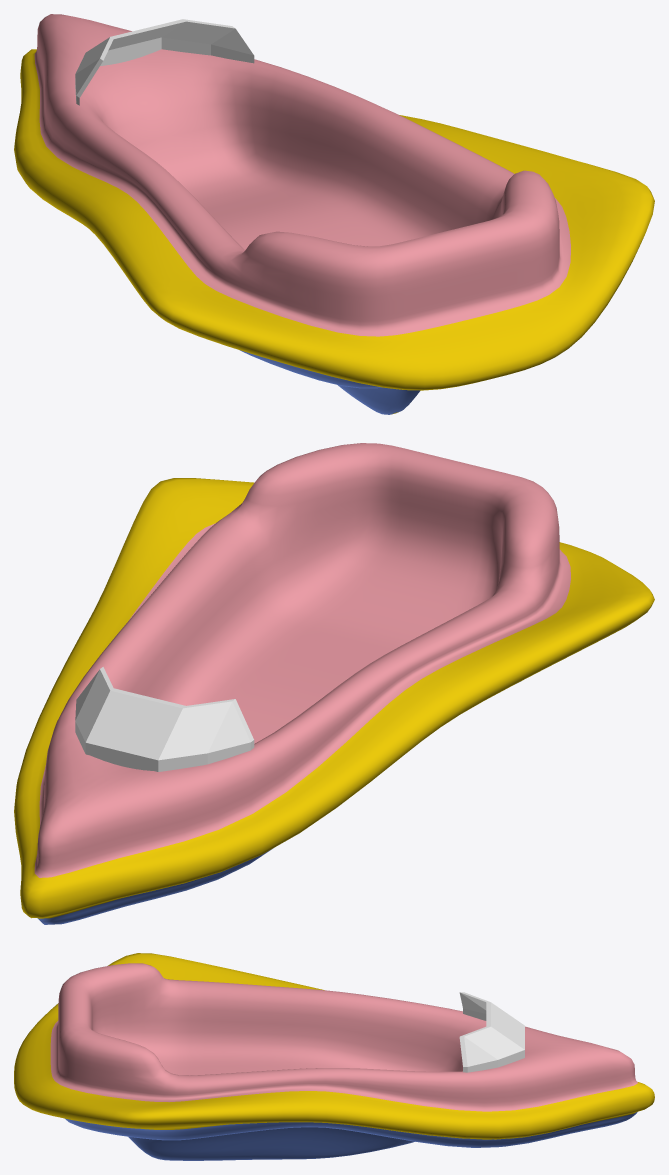
The model's file is podracer-pod.fbx.
The picture shows the model from 3 angles, top to bottom: view 1: azimuth 30°, elevation 25°; view 2: azimuth 150°, elevation 25°; view 3: azimuth 270°, elevation 25°; orthographic projection. The views are drawn at different scales.
Visible parts, largest first — view 1: Podracer.Main, Podracer.Window; view 2: Podracer.Main, Podracer.Window; view 3: Podracer.Main, Podracer.Window.
Boxes of the visible parts, x1,y1,x2,y2 form: Podracer.Main: (14,14,654,414); Podracer.Window: (75,19,254,105); Podracer.Main: (14,443,654,924); Podracer.Window: (75,667,254,771); Podracer.Main: (14,953,654,1160); Podracer.Window: (459,992,524,1072).
Bounding box in the file's own units: 450 × 197 × 738.
